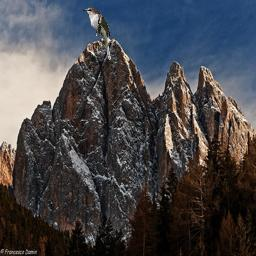Cuckoo: (82, 7, 111, 61)
